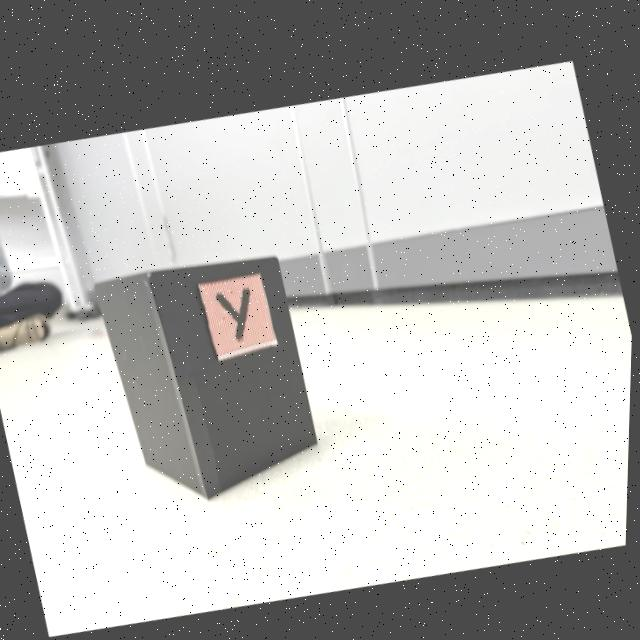Y: (218, 282, 252, 335)
